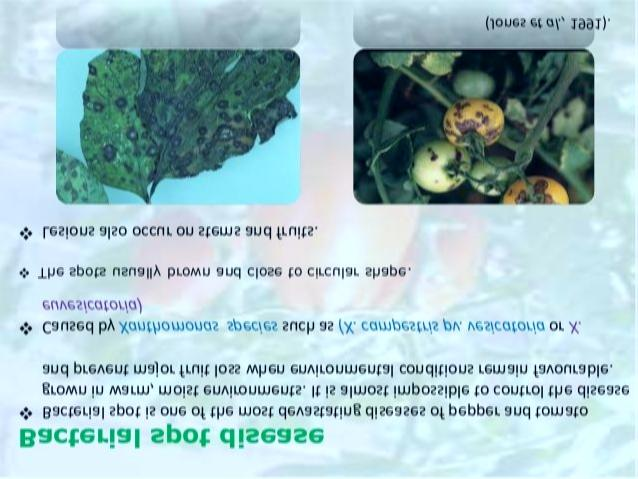Tomato leaf bacterial spot: (80, 50, 301, 197)
